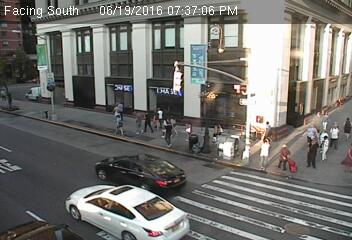neg: (138, 165, 167, 204), (67, 137, 92, 171), (276, 197, 301, 231), (173, 46, 196, 77), (56, 66, 79, 96), (211, 68, 231, 93), (110, 54, 129, 80), (266, 69, 285, 95), (180, 128, 199, 154), (203, 128, 221, 152), (314, 30, 332, 54), (315, 81, 331, 103), (40, 122, 56, 143), (209, 181, 224, 201), (250, 41, 264, 59), (29, 88, 42, 105)
pos: (249, 132, 282, 175), (155, 117, 179, 148), (303, 137, 326, 168), (274, 139, 296, 168), (324, 120, 345, 146), (129, 110, 147, 134), (138, 107, 155, 131), (112, 115, 126, 134), (150, 104, 164, 122)
